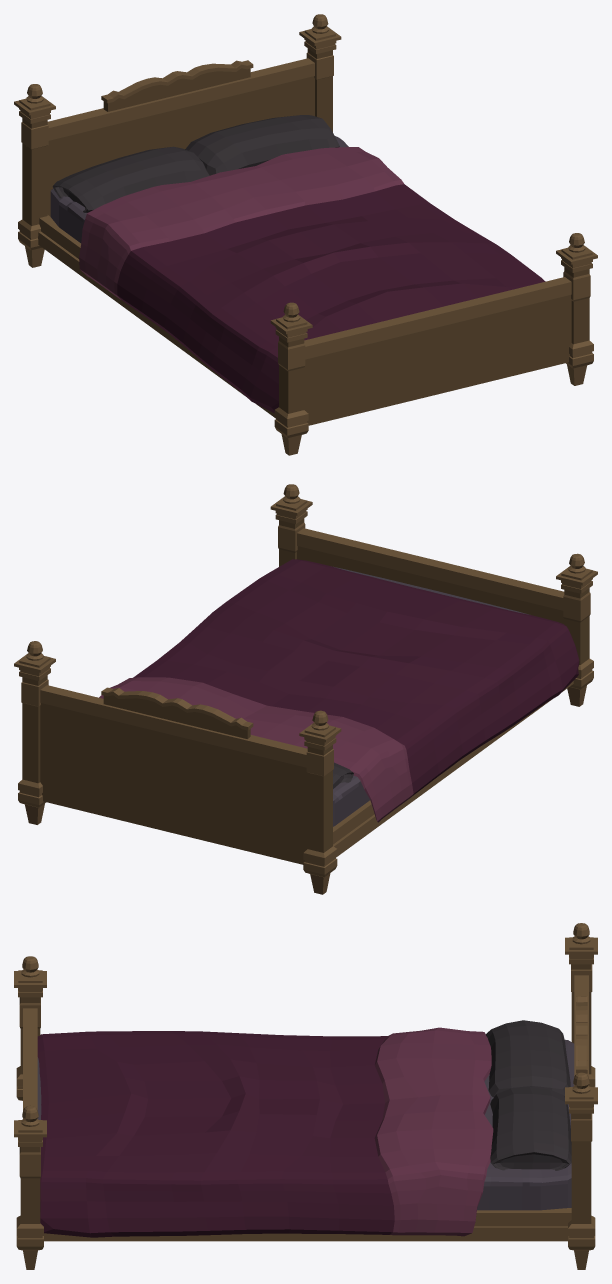
Rendered from BedDouble.glb.
The picture shows the model from 3 angles, top to bottom: view 1: azimuth 30°, elevation 25°; view 2: azimuth 150°, elevation 25°; view 3: azimuth 270°, elevation 25°; orthographic projection. The views are drawn at different scales.
Visible parts, largest first — view 1: BedDouble; view 2: BedDouble; view 3: BedDouble.
Part boxes in pixels (x1,y1,x2,y2): BedDouble: (14,14,597,455); BedDouble: (14,484,597,894); BedDouble: (14,923,597,1269).
Bounding box in the file's own units: 2.83 × 1.56 × 4.26.
